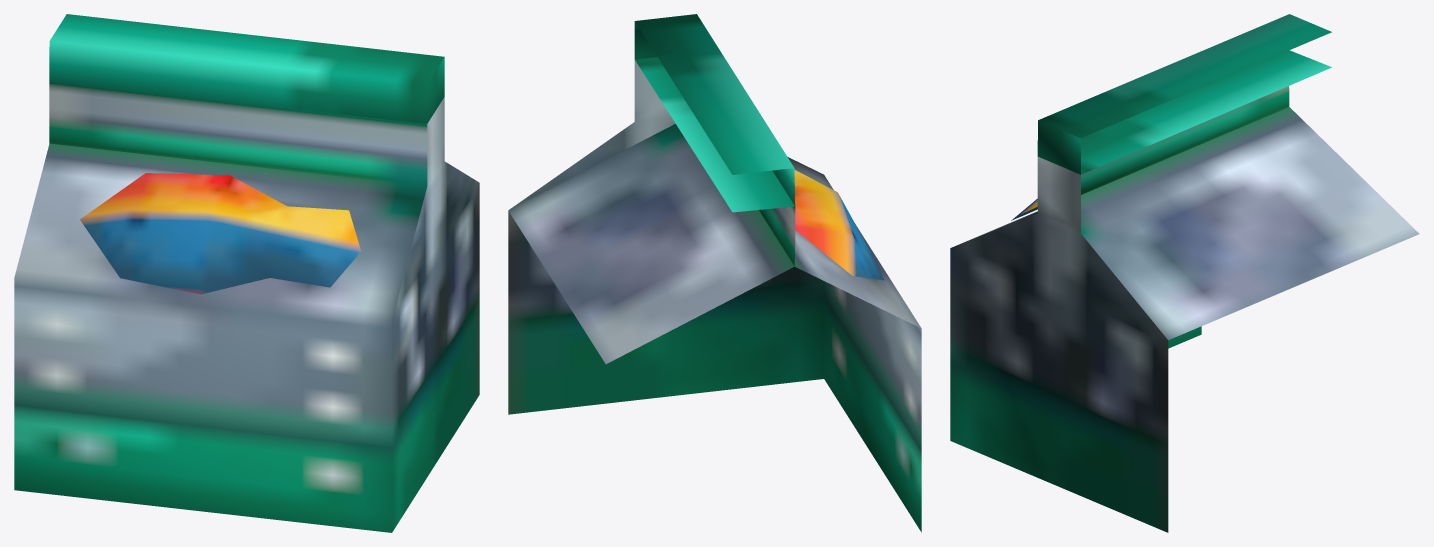
The model's file is fg_S_toolbox_B_out.dae.
The picture shows the model from 3 angles, left to right: view 1: azimuth 30°, elevation 25°; view 2: azimuth 150°, elevation 25°; view 3: azimuth 270°, elevation 25°; orthographic projection. The views are drawn at different scales.
Parts seen in each view (by area): view 1: fg_S_toolbox_B_out; view 2: fg_S_toolbox_B_out; view 3: fg_S_toolbox_B_out.
Boxes of the visible parts, x1=… form: fg_S_toolbox_B_out: x1=14, y1=14, x2=479, y2=532; fg_S_toolbox_B_out: x1=508, y1=14, x2=921, y2=532; fg_S_toolbox_B_out: x1=950, y1=14, x2=1419, y2=532.
Size of the model in its own units: 19.8 by 16.64 by 19.8.
Materials: 1 (1 with a texture image).
